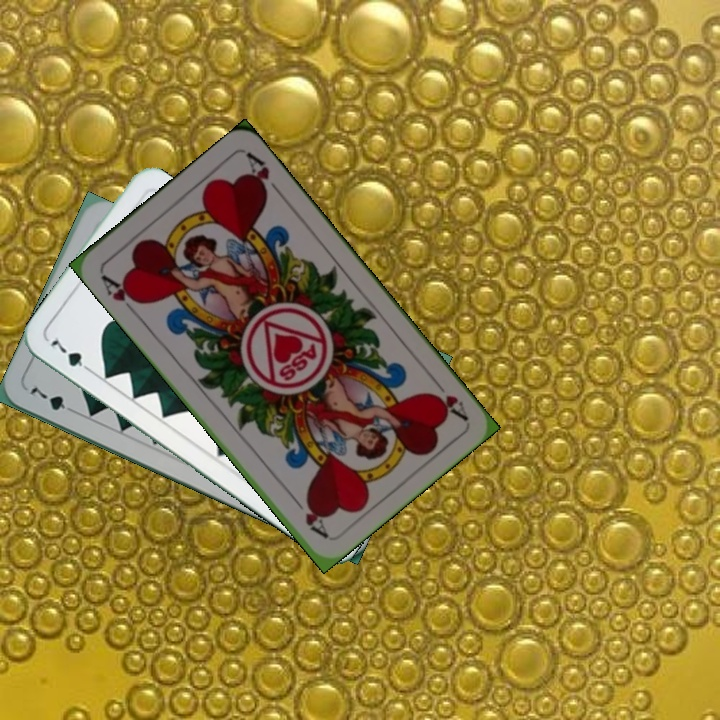G7: (45, 332, 96, 376), (26, 382, 80, 415)
HA: (425, 372, 471, 423), (96, 270, 144, 318)
